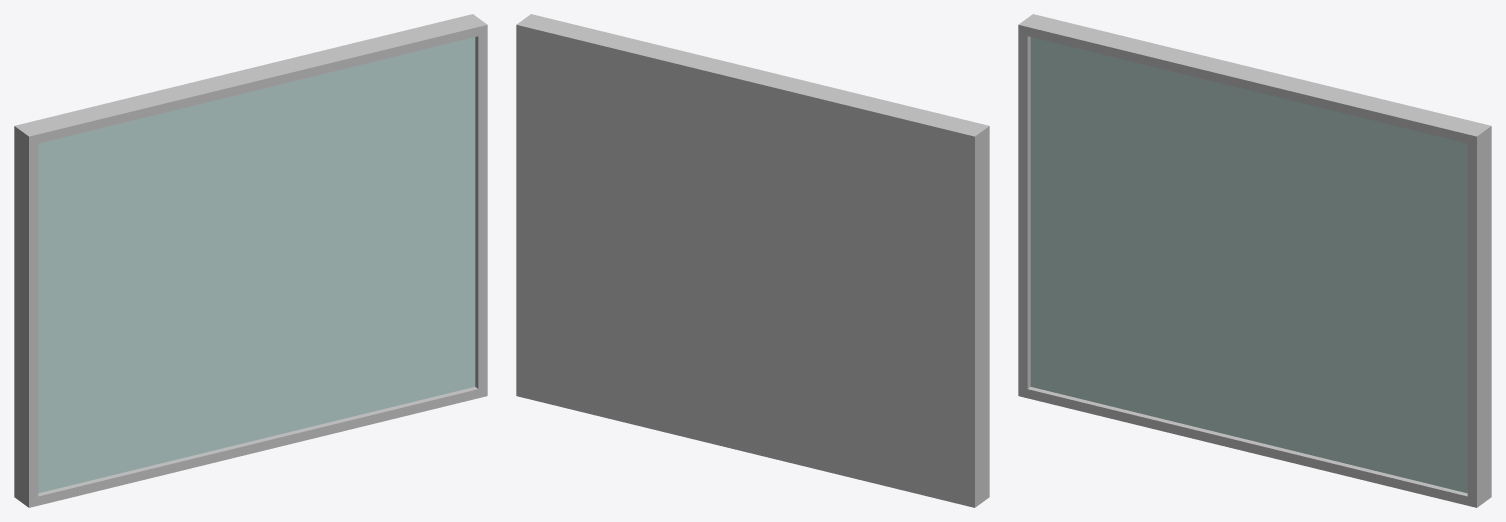
File: Mirror_02_C1.fbx
3 renders of one model, left to right at view 1: azimuth 30°, elevation 25°; view 2: azimuth 150°, elevation 25°; view 3: azimuth 330°, elevation 25°, orthographic.
Parts seen in each view (by area): view 1: Mirror_02_C1; view 2: Mirror_02_C1; view 3: Mirror_02_C1.
Part boxes in pixels (<box>): Mirror_02_C1: <box>14,14,487,507</box>; Mirror_02_C1: <box>516,14,989,507</box>; Mirror_02_C1: <box>1018,14,1491,507</box>.
Size of the model in its own units: 90 by 69.65 by 5.
